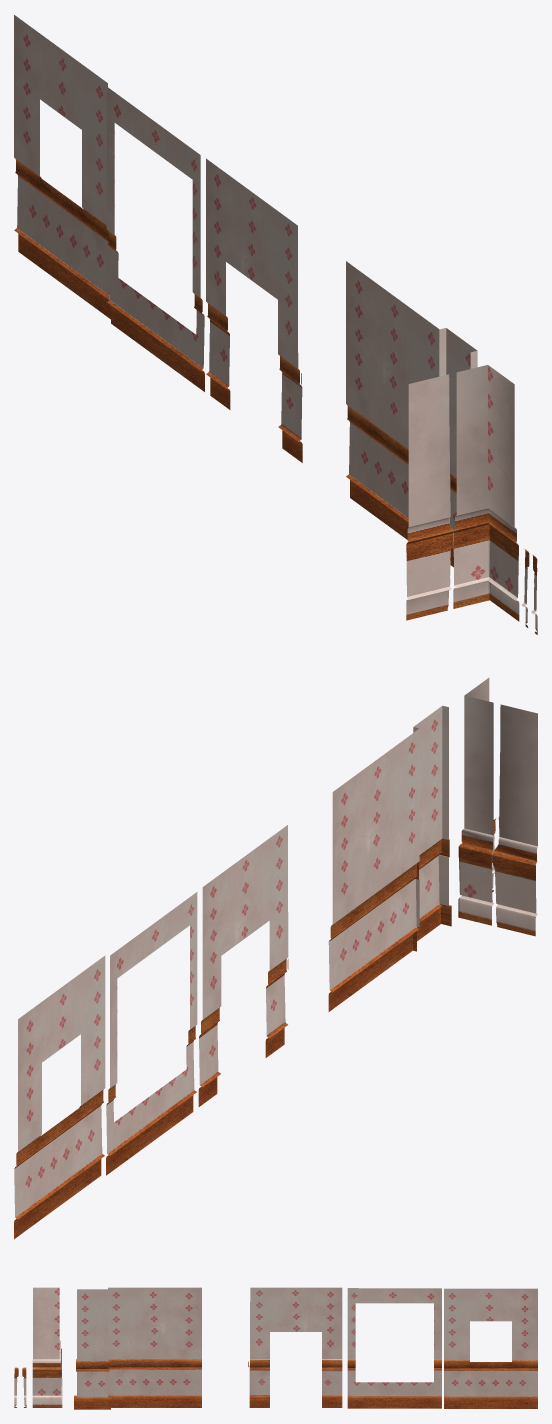
The model's file is interiorWalls_BKP.fbx.
3 views of the same model, one above another, from view 1: azimuth 30°, elevation 25°; view 2: azimuth 150°, elevation 25°; view 3: azimuth 270°, elevation 25° (orthographic). The views are drawn at different scales.
Visible parts, largest first — view 1: InteriorWall_corner, InteriorWall_windowS, InteriorWall_normal, InteriorWall_entrance, InteriorWall_windowL, InteriorWall_pillar; view 2: InteriorWall_normal, InteriorWall_windowS, InteriorWall_corner, InteriorWall_entrance, InteriorWall_windowL, InteriorWall_pillar; view 3: InteriorWall_normal, InteriorWall_windowS, InteriorWall_entrance, InteriorWall_windowL, InteriorWall_pillar, InteriorWall_corner.
Boxes of the visible parts, <box> form: InteriorWall_corner: <box>406,365,537,634</box>; InteriorWall_windowS: <box>14,15,110,319</box>; InteriorWall_normal: <box>346,261,439,539</box>; InteriorWall_entrance: <box>206,158,302,462</box>; InteriorWall_windowL: <box>106,86,204,391</box>; InteriorWall_pillar: <box>439,328,477,567</box>; InteriorWall_normal: <box>328,728,419,1011</box>; InteriorWall_windowS: <box>14,955,105,1238</box>; InteriorWall_corner: <box>458,677,537,936</box>; InteriorWall_entrance: <box>198,825,288,1106</box>; InteriorWall_windowL: <box>106,892,197,1175</box>; InteriorWall_pillar: <box>413,705,451,951</box>; InteriorWall_normal: <box>108,1287,201,1407</box>; InteriorWall_windowS: <box>444,1288,537,1408</box>; InteriorWall_entrance: <box>248,1287,342,1407</box>; InteriorWall_windowL: <box>347,1288,441,1408</box>; InteriorWall_pillar: <box>74,1289,110,1409</box>; InteriorWall_corner: <box>14,1287,62,1407</box>.
Bounding box in the file's own units: 2.77 × 7.02 × 27.84.
